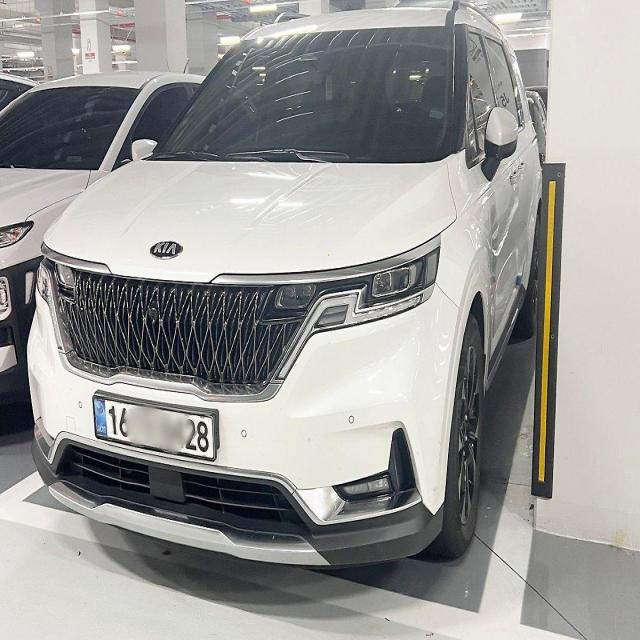car: (29, 2, 550, 583)
illegal_plate: (97, 394, 217, 464)
